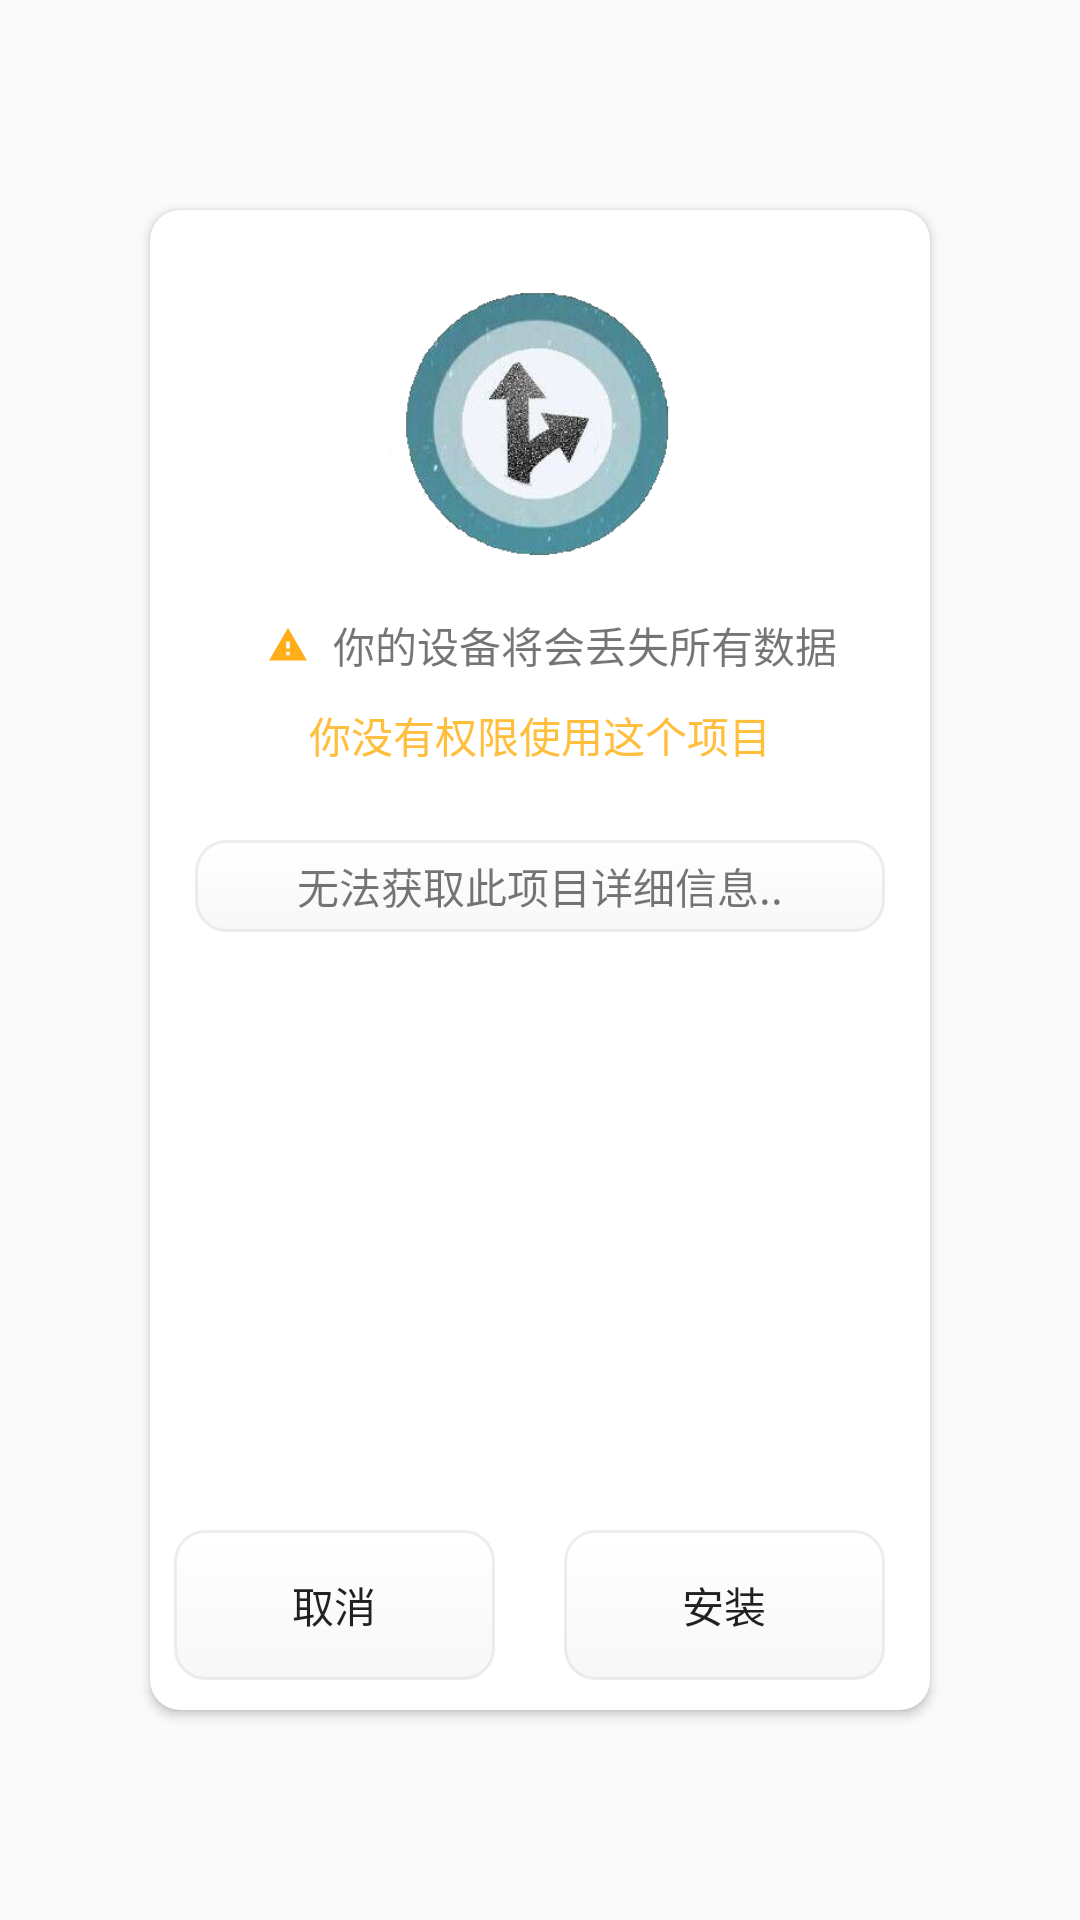

Named icons in this screenshot (1080px x 1920px) and their bounding boxes, (x1, y1, x2, y2):
warning: (269, 628, 307, 661)
